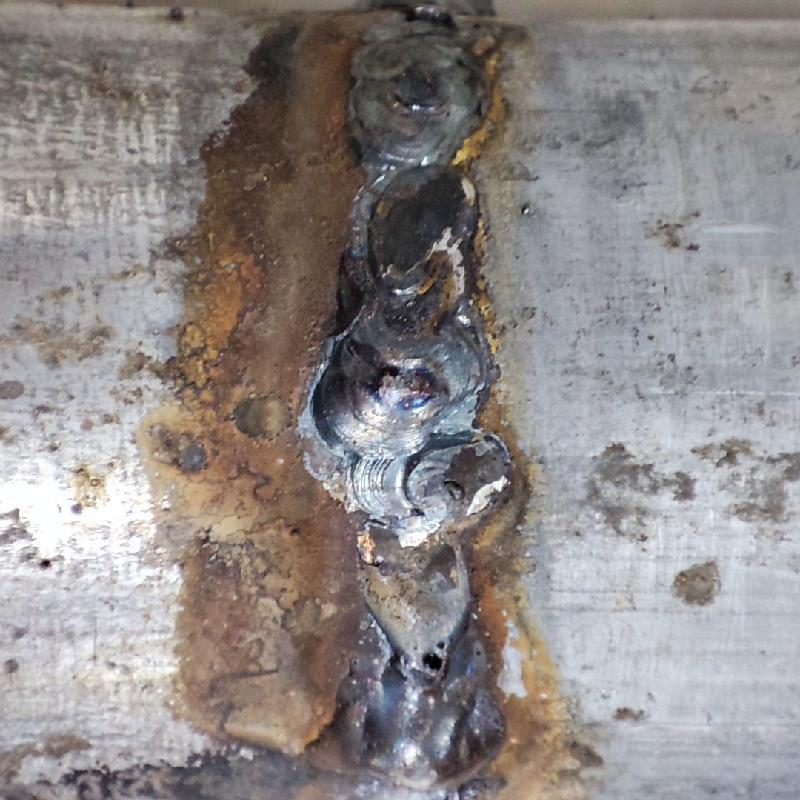Not_fully_soldered: (333, 455, 512, 677)
wrong_size: (305, 2, 497, 453)
